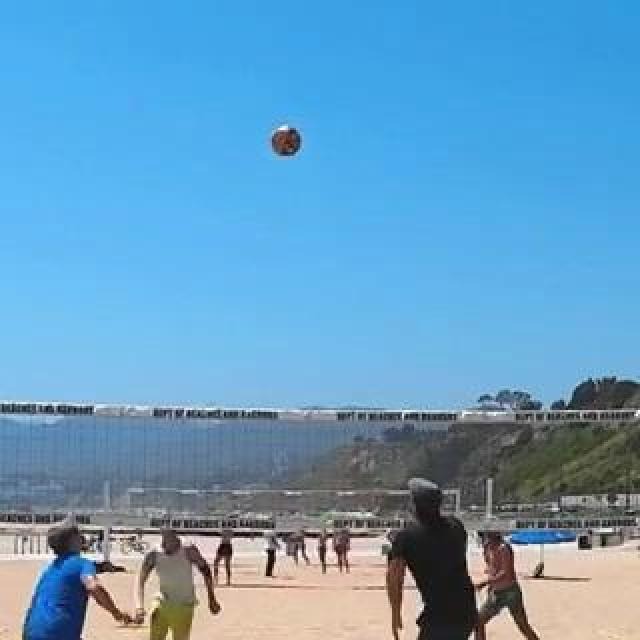volleyball: (272, 126, 304, 156)
